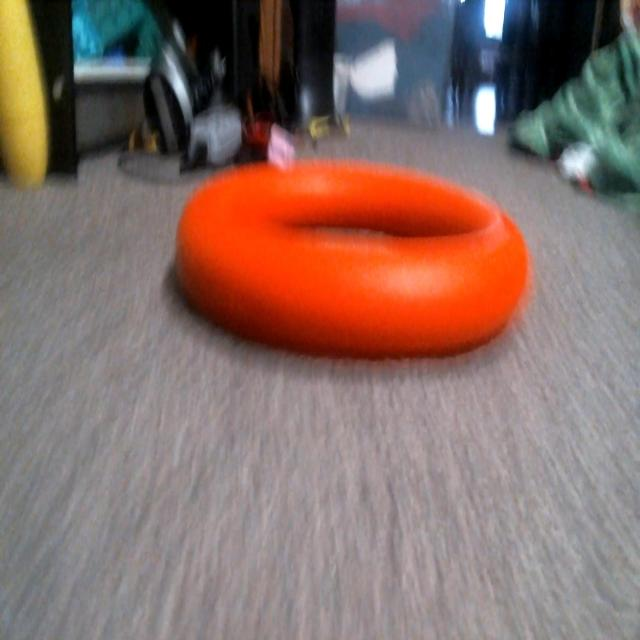note: (176, 156, 530, 368)
